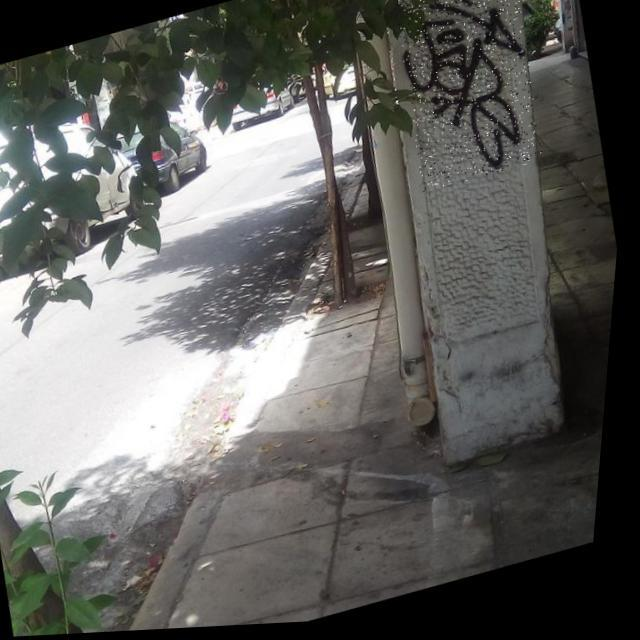-: (381, 0, 558, 199)
